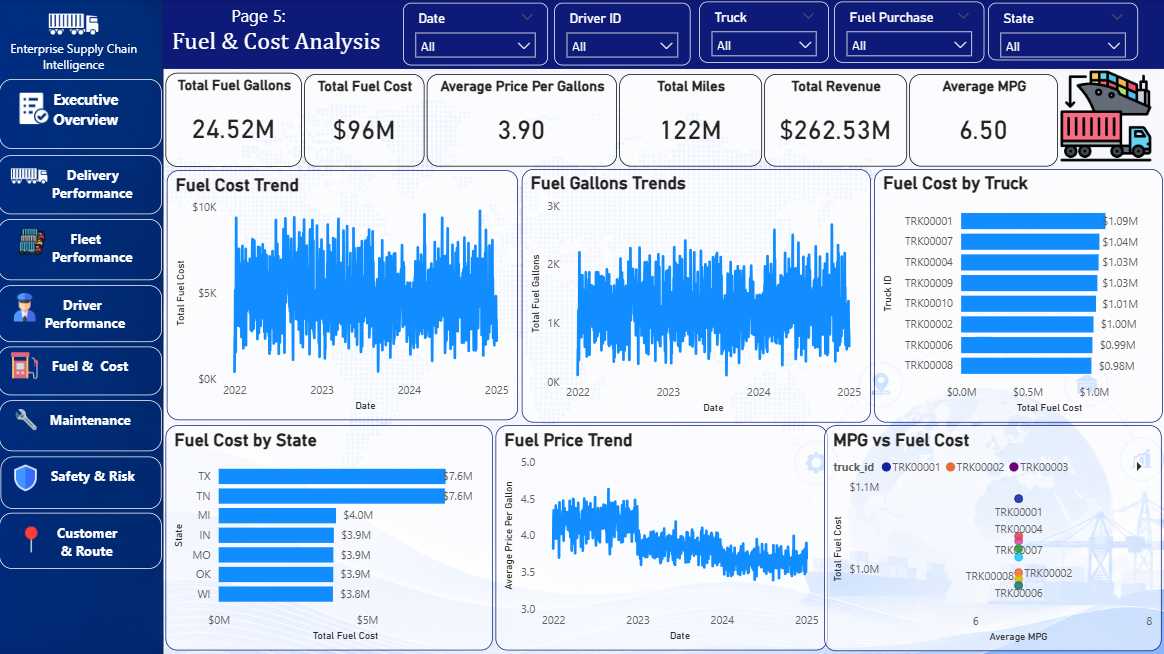

Layout of this report page (visuals, bound fields, positions):
{"tool":"powerbi","page":{"name":"Fuel & Cost","canvas":[1280,720],"ordinal":4},"visuals":[{"type":"card","title":"Total Fuel Gallons","fields":{"Values":["All Measures.Total Fuel Gallons"]},"box":[183.9,81,149.6,102.9],"z":0,"group":"g10"},{"type":"group","id":"g1","title":"Group 1","box":[0,171.9,179.8,64.5],"z":0},{"type":"textbox","box":[2.7,502.6,177,57.6],"z":0,"group":"g4"},{"type":"image","box":[1.4,0,163.3,54.9],"z":1000,"group":"g3"},{"type":"card","title":"Total Fuel Cost","fields":{"Values":["All Measures.Total Fuel Cost"]},"box":[336.2,82.4,131.7,101.5],"z":1000,"group":"g10"},{"type":"group","id":"g2","title":"Group 3","box":[1.4,88.3,178.4,76.8],"z":1000},{"type":"image","box":[10.9,510.8,38.4,30.2],"z":1000,"group":"g4"},{"type":"group","id":"g3","title":"Group 4","box":[1.4,0,163.3,87.8],"z":2000},{"type":"textbox","box":[1.4,40.3,163.3,47.6],"z":2000,"group":"g3"},{"type":"card","title":"Average Price Per Gallons","fields":{"Values":["All Measures.Average Price Per Gallon"]},"box":[470.7,82.4,208.6,101.5],"z":2000,"group":"g10"},{"type":"card","title":"Total Miles","fields":{"Values":["All Measures.Total Miles"]},"box":[682,82.4,156.4,101.5],"z":3000,"group":"g10"},{"type":"group","id":"g4","title":"Group 7","box":[2.7,502.6,177,57.6],"z":3000},{"type":"textbox","box":[1.4,564.4,178.4,61.7],"z":3000,"group":"g6"},{"type":"card","title":"Average MPG","fields":{"Values":["All Measures.Average MPG"]},"box":[1000.4,82.4,163.3,101.5],"z":4000,"group":"g10"},{"type":"group","id":"g5","title":"Group 8","box":[1.4,440.9,178.4,56.3],"z":4000},{"type":"textbox","box":[1.4,440.9,178.4,56.3],"z":4000,"group":"g5"},{"type":"card","title":"Total Revenue","fields":{"Values":["All Measures.Total Revenue"]},"box":[841.2,82.4,156.4,101.5],"z":5000,"group":"g10"},{"type":"textbox","box":[0,382,179.8,53.4],"z":5000,"group":"g7"},{"type":"group","id":"g6","title":"Group 9","box":[1.4,564.4,178.4,61.7],"z":5000},{"type":"textbox","box":[1.4,88.3,178.4,76.8],"z":6000,"group":"g2"},{"type":"textbox","box":[0,314.2,179.8,62.5],"z":6000,"group":"g9"},{"type":"group","id":"g7","title":"Group 10","box":[0,380.5,179.8,54.9],"z":6000},{"type":"group","id":"g8","title":"Group 11","box":[0,241.8,179.8,67.2],"z":7000},{"type":"group","id":"g9","title":"Group 12","box":[0,314.2,179.8,62.5],"z":8000},{"type":"textbox","box":[179.8,0,1100.5,76.8],"z":9000},{"type":"image","box":[1152.7,76.8,127.6,102.9],"z":10000},{"type":"textbox","box":[0,241.8,179.8,67.2],"z":10000,"group":"g8"},{"type":"group","id":"g10","title":"Group 2","box":[183.9,81,979.8,102.9],"z":11000},{"type":"slicer","fields":{"Values":["DimDrivers.driver_id"]},"box":[610.6,4.1,149.6,68.6],"z":12000},{"type":"lineChart","title":"Fuel Cost Trend","fields":{"Category":["Dim_Date.Date Hierarchy.Date"],"Y":["All Measures.Total Fuel Cost"]},"box":[185.4,187.5,385.6,274.4],"z":12000,"group":"g11"},{"type":"slicer","fields":{"Values":["FactFuelPurchases.truck_id"]},"box":[769.8,2.7,142.7,67.2],"z":13000},{"type":"textbox","box":[0,171.9,179.8,64.5],"z":13000,"group":"g13"},{"type":"lineChart","title":"Fuel Gallons Trends","fields":{"Category":["Dim_Date.Date Hierarchy.Date"],"Y":["All Measures.Total Fuel Gallons"]},"box":[575.1,186.1,382.8,278.6],"z":13000,"group":"g11"},{"type":"image","box":[15.5,102.8,48.5,34.8],"z":13003,"group":"g2"},{"type":"image","box":[1.4,174.6,65.9,39.8],"z":13007,"group":"g13"},{"type":"slicer","fields":{"Values":["Dim_Date.Date Hierarchy.Date","Dim_Date.Date Hierarchy.Year","Dim_Date.Date Hierarchy.Month Name"]},"box":[444.6,4.1,159.2,68.6],"z":14000},{"type":"clusteredBarChart","title":"Fuel Cost by Truck","fields":{"Category":["DimTrucks.truck_id"],"Y":["All Measures.Total Fuel Cost"]},"box":[962.1,186.1,317,278.6],"z":14000,"group":"g11"},{"type":"slicer","fields":{"Values":["FactFuelPurchases.location_state"]},"box":[1086.8,4.1,164.7,63.1],"z":15000},{"type":"clusteredBarChart","title":"Fuel Cost by State","fields":{"Category":["FactFuelPurchases.location_state"],"Y":["All Measures.Total Fuel Cost"]},"box":[183.6,467.4,359.5,247],"z":15000,"group":"g12"},{"type":"slicer","fields":{"Values":["FactFuelPurchases.fuel_purchase_id"]},"box":[918,2.7,164.7,67.2],"z":16000},{"type":"lineChart","title":"Fuel Price Trend","fields":{"Category":["Dim_Date.Date Hierarchy.Date"],"Y":["All Measures.Average Price Per Gallon"]},"box":[545.9,467.4,365,247],"z":16000,"group":"g12"},{"type":"group","id":"g11","title":"Group 6","box":[185.4,186.1,1093.7,278.6],"z":17000},{"type":"scatterChart","title":"MPG vs Fuel Cost","fields":{"X":["All Measures.Average MPG"],"Y":["All Measures.Total Fuel Cost"],"Series":["DimTrucks.truck_id"]},"box":[906.2,467.6,370.5,248.4],"z":17000,"group":"g12"},{"type":"group","id":"g12","title":"Group 13","box":[183.6,467.4,1093.1,248.5],"z":18000},{"type":"group","id":"g13","title":"Group 5","box":[0,171.9,179.8,64.5],"z":27001,"group":"g1"},{"type":"image","box":[13.7,450.5,34.3,23.3],"z":27002,"group":"g5"},{"type":"image","box":[13.7,315.6,31.6,45.3],"z":27006,"group":"g9"},{"type":"image","box":[2.7,251.4,68.6,30.2],"z":27007,"group":"g8"},{"type":"image","box":[20.6,579.3,32,29.2],"z":27008,"group":"g6"},{"type":"image","box":[12.7,380.5,33.3,44],"z":27010,"group":"g7"}]}

Visuals, with their boxes on the page's 1280x720 design canvas (x1, y1, x2, y2). These are canvas units, not pixel positions in the 1164x654 screenshot, which may show the page scaled, cropped or inside an application window:
"Total Fuel Gallons" card: <bbox>184, 81, 334, 184</bbox>
"Group 1" group: <bbox>0, 172, 180, 236</bbox>
textbox: <bbox>3, 503, 180, 560</bbox>
image: <bbox>1, 0, 165, 55</bbox>
"Total Fuel Cost" card: <bbox>336, 82, 468, 184</bbox>
"Group 3" group: <bbox>1, 88, 180, 165</bbox>
image: <bbox>11, 511, 49, 541</bbox>
"Group 4" group: <bbox>1, 0, 165, 88</bbox>
textbox: <bbox>1, 40, 165, 88</bbox>
"Average Price Per Gallons" card: <bbox>471, 82, 679, 184</bbox>
"Total Miles" card: <bbox>682, 82, 838, 184</bbox>
"Group 7" group: <bbox>3, 503, 180, 560</bbox>
textbox: <bbox>1, 564, 180, 626</bbox>
"Average MPG" card: <bbox>1000, 82, 1164, 184</bbox>
"Group 8" group: <bbox>1, 441, 180, 497</bbox>
textbox: <bbox>1, 441, 180, 497</bbox>
"Total Revenue" card: <bbox>841, 82, 998, 184</bbox>
textbox: <bbox>0, 382, 180, 435</bbox>
"Group 9" group: <bbox>1, 564, 180, 626</bbox>
textbox: <bbox>1, 88, 180, 165</bbox>
textbox: <bbox>0, 314, 180, 377</bbox>
"Group 10" group: <bbox>0, 380, 180, 435</bbox>
"Group 11" group: <bbox>0, 242, 180, 309</bbox>
"Group 12" group: <bbox>0, 314, 180, 377</bbox>
textbox: <bbox>180, 0, 1280, 77</bbox>
image: <bbox>1153, 77, 1280, 180</bbox>
textbox: <bbox>0, 242, 180, 309</bbox>
"Group 2" group: <bbox>184, 81, 1164, 184</bbox>
slicer - DimDrivers.driver_id: <bbox>611, 4, 760, 73</bbox>
"Fuel Cost Trend" lineChart: <bbox>185, 188, 571, 462</bbox>
slicer - FactFuelPurchases.truck_id: <bbox>770, 3, 912, 70</bbox>
textbox: <bbox>0, 172, 180, 236</bbox>
"Fuel Gallons Trends" lineChart: <bbox>575, 186, 958, 465</bbox>
image: <bbox>16, 103, 64, 138</bbox>
image: <bbox>1, 175, 67, 214</bbox>
slicer - Dim_Date.Date Hierarchy.Date x Dim_Date.Date Hierarchy.Year: <bbox>445, 4, 604, 73</bbox>
"Fuel Cost by Truck" clusteredBarChart: <bbox>962, 186, 1279, 465</bbox>
slicer - FactFuelPurchases.location_state: <bbox>1087, 4, 1252, 67</bbox>
"Fuel Cost by State" clusteredBarChart: <bbox>184, 467, 543, 714</bbox>
slicer - FactFuelPurchases.fuel_purchase_id: <bbox>918, 3, 1083, 70</bbox>
"Fuel Price Trend" lineChart: <bbox>546, 467, 911, 714</bbox>
"Group 6" group: <bbox>185, 186, 1279, 465</bbox>
"MPG vs Fuel Cost" scatterChart: <bbox>906, 468, 1277, 716</bbox>
"Group 13" group: <bbox>184, 467, 1277, 716</bbox>
"Group 5" group: <bbox>0, 172, 180, 236</bbox>
image: <bbox>14, 450, 48, 474</bbox>
image: <bbox>14, 316, 45, 361</bbox>
image: <bbox>3, 251, 71, 282</bbox>
image: <bbox>21, 579, 53, 608</bbox>
image: <bbox>13, 380, 46, 424</bbox>
